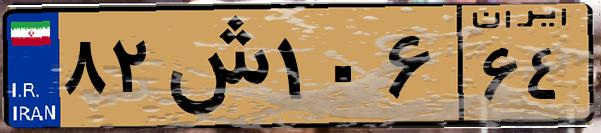0: (330, 28, 385, 110)
1: (270, 28, 330, 110)
2: (110, 28, 158, 98)
4: (525, 38, 570, 115)
6: (385, 28, 445, 110), (475, 38, 525, 113)
8: (57, 26, 110, 100)
ش: (158, 12, 270, 120)
